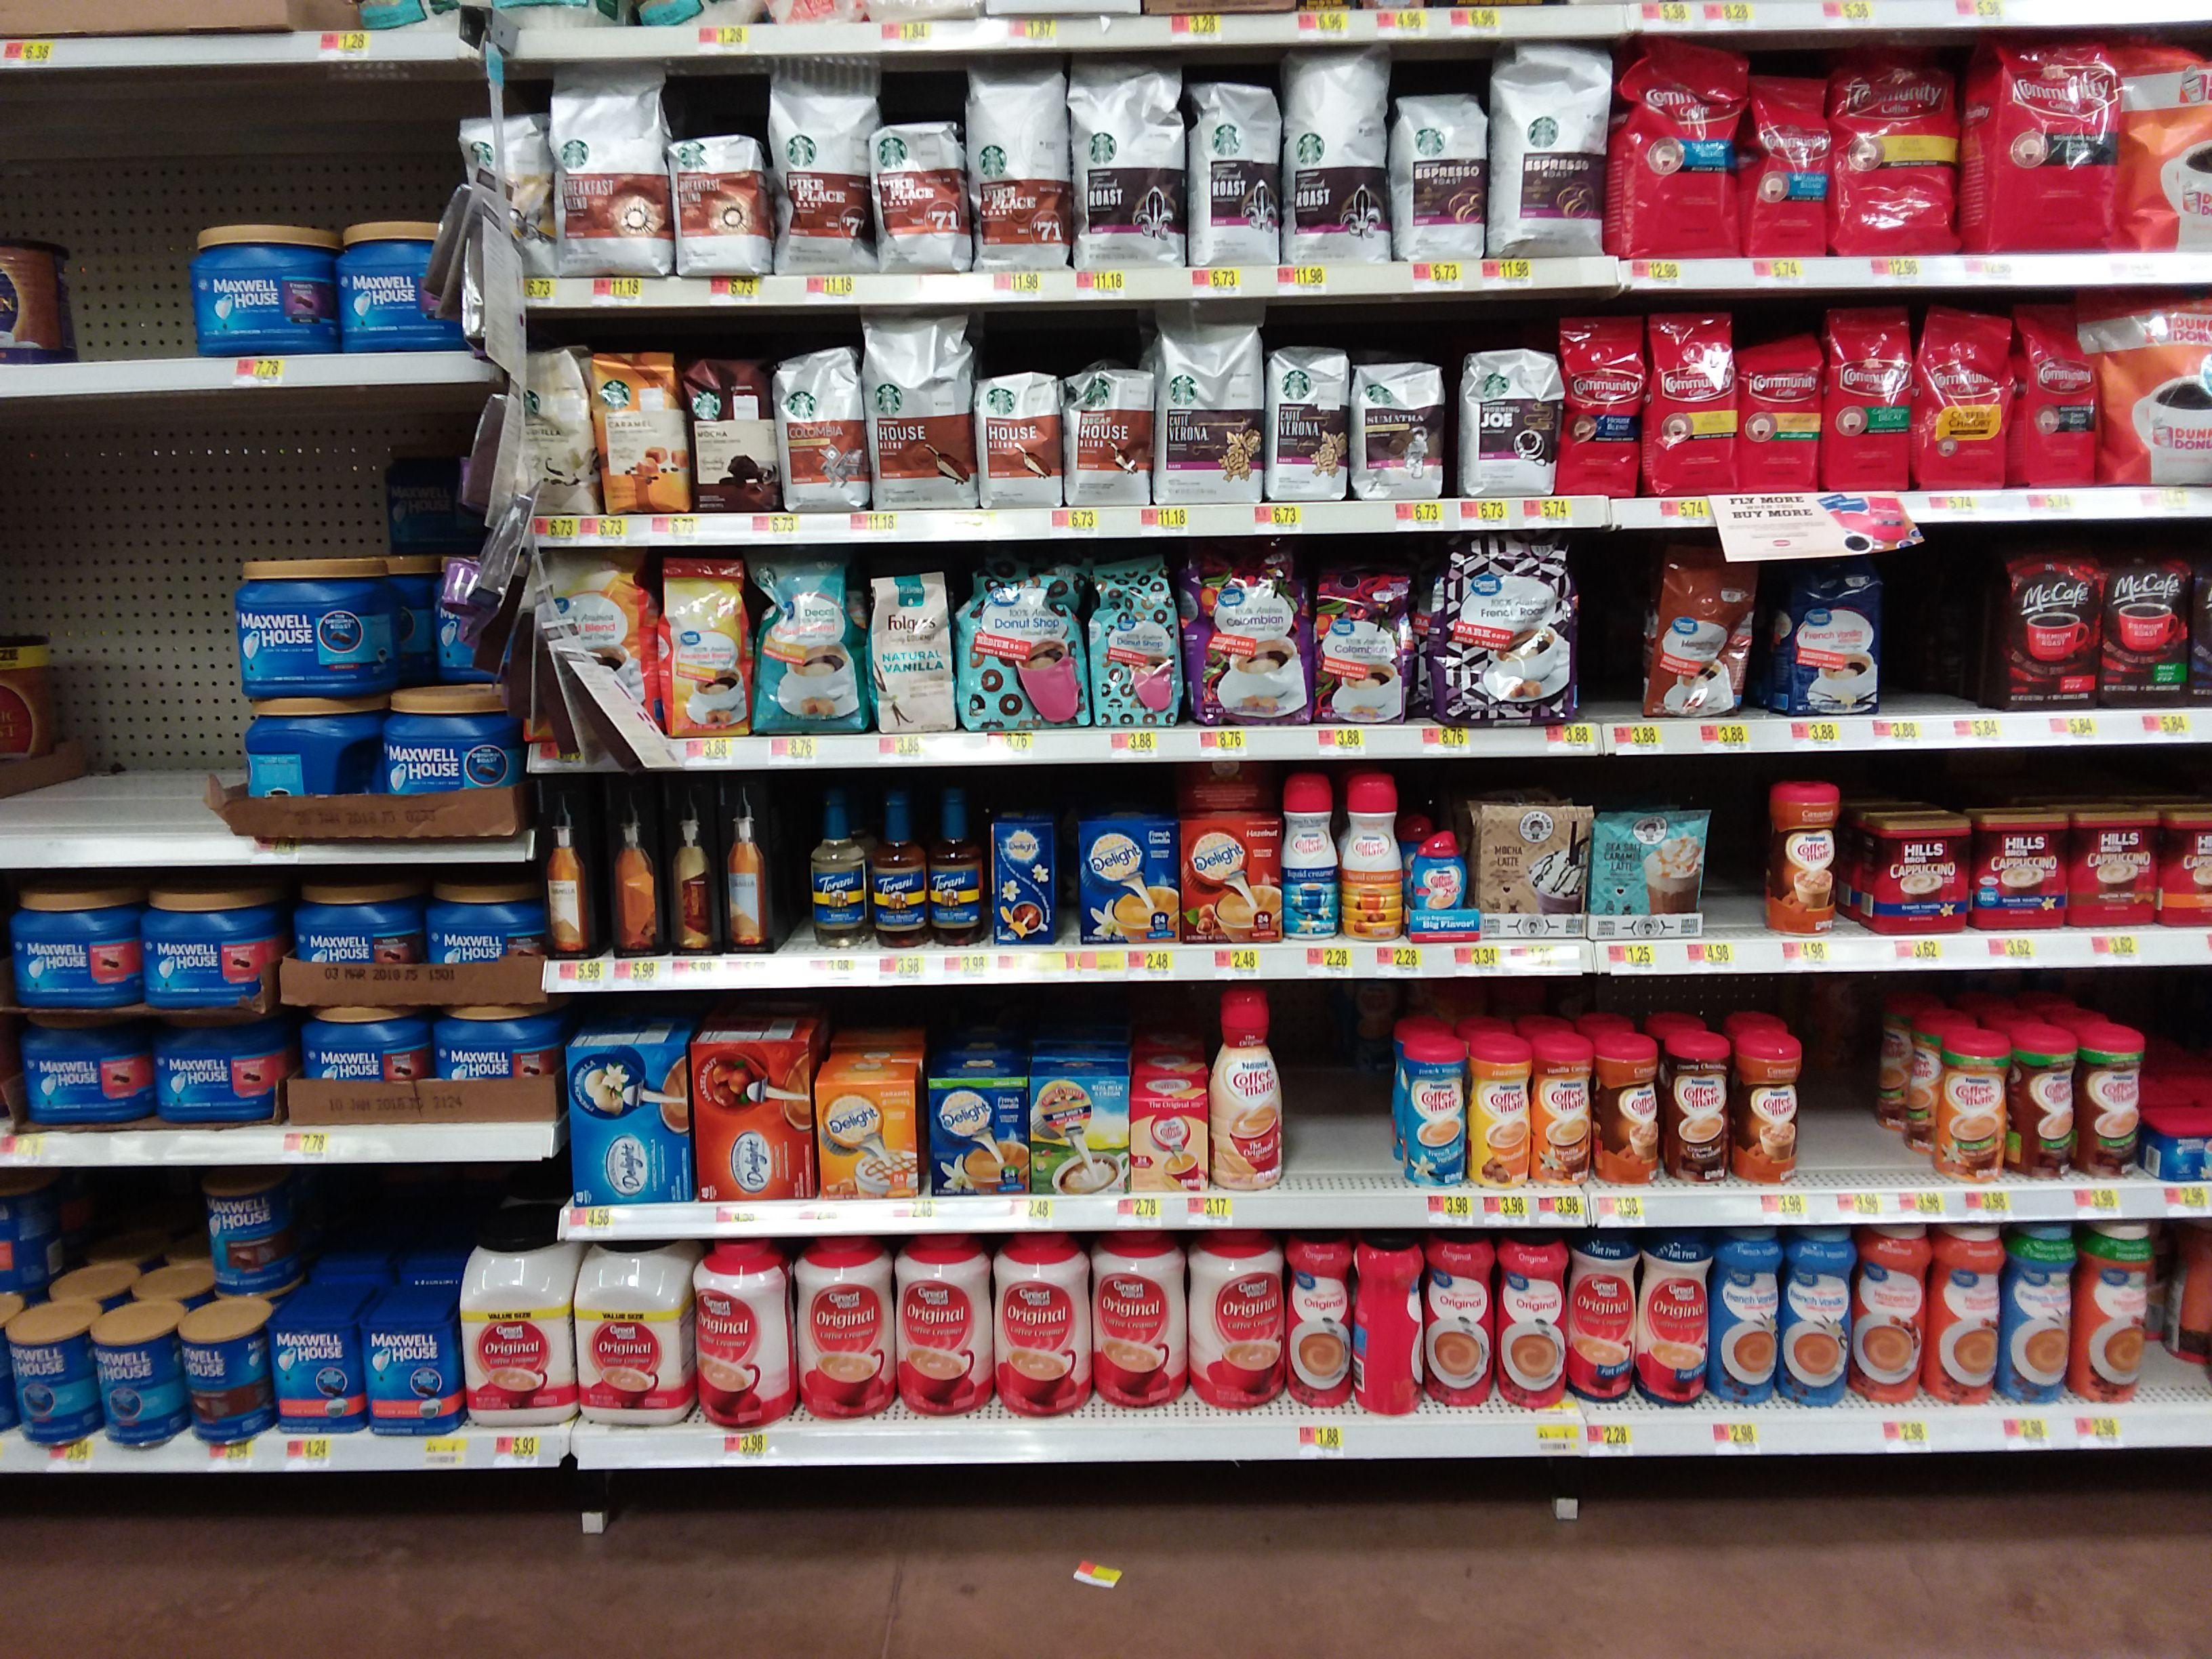empty: (57, 498, 228, 817), (57, 164, 190, 345), (1285, 1002, 1395, 1195), (1797, 992, 1878, 1187), (1888, 563, 1982, 708), (1714, 777, 1766, 938)
misalignment: (1595, 547, 1766, 718), (1350, 1234, 1425, 1419)
